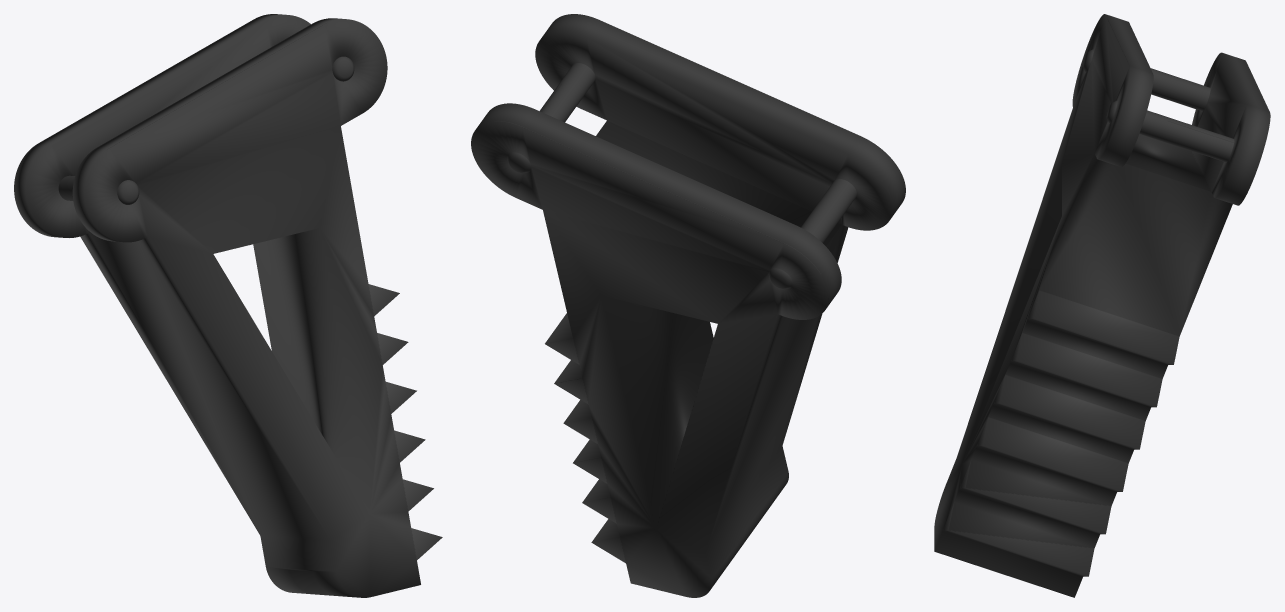
File: chwytak6_L.obj
The picture shows the model from 3 angles, left to right: view 1: azimuth 30°, elevation 25°; view 2: azimuth 150°, elevation 25°; view 3: azimuth 270°, elevation 25°; orthographic projection. The views are drawn at different scales.
Parts seen in each view (by area): view 1: chwytak_L; view 2: chwytak_L; view 3: chwytak_L.
Part boxes in pixels (x1=…): chwytak_L: x1=14, y1=14, x2=442, y2=597; chwytak_L: x1=471, y1=14, x2=905, y2=597; chwytak_L: x1=934, y1=14, x2=1270, y2=597.
Bounding box in the file's own units: 1.16 × 1.9 × 1.08.
1 material, 1 textured.
